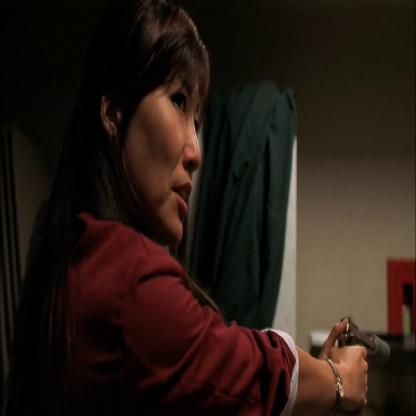Guns: (334, 314, 394, 368)
